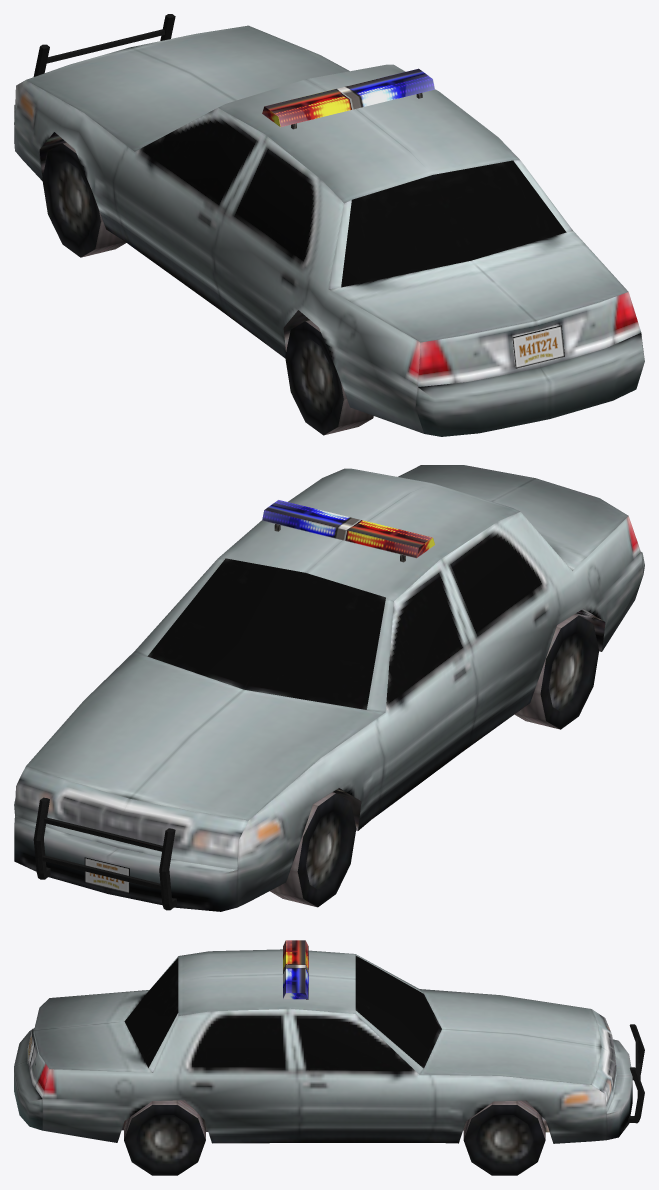
Rendered from car.obj.
The picture shows the model from 3 angles, top to bottom: view 1: azimuth 30°, elevation 25°; view 2: azimuth 150°, elevation 25°; view 3: azimuth 270°, elevation 25°; orthographic projection. The views are drawn at different scales.
Visible parts, largest first — view 1: copCarDetail_LOD0_Materiais.003_0; view 2: copCarDetail_LOD0_Materiais.003_0; view 3: copCarDetail_LOD0_Materiais.003_0.
Boxes of the visible parts, bbox=[...] form: copCarDetail_LOD0_Materiais.003_0: bbox=[14, 14, 644, 436]; copCarDetail_LOD0_Materiais.003_0: bbox=[14, 465, 644, 911]; copCarDetail_LOD0_Materiais.003_0: bbox=[14, 940, 644, 1175].
Bounding box in the file's own units: 1.97 × 1.62 × 5.61.
